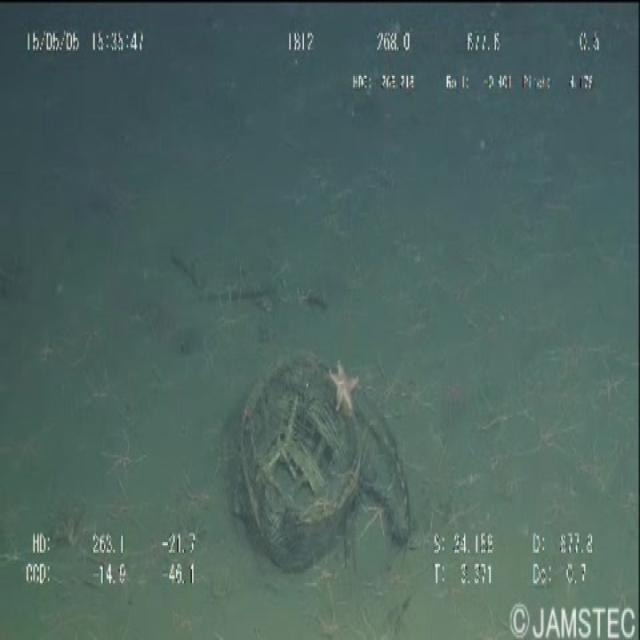Accessories: (237, 328, 435, 596)
